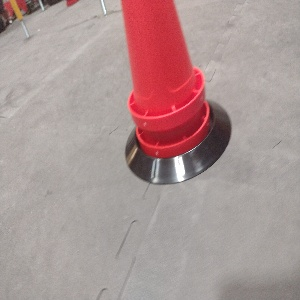Red_2: (120, 0, 210, 159)
